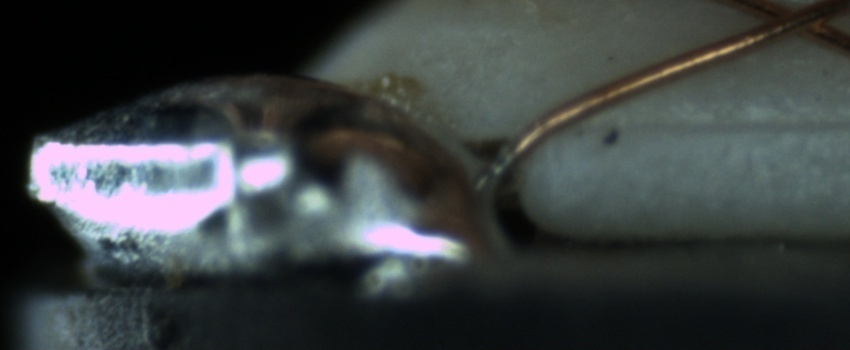CL: (735, 1, 847, 46)
DL: (604, 91, 849, 156)
TS: (484, 146, 521, 185)
